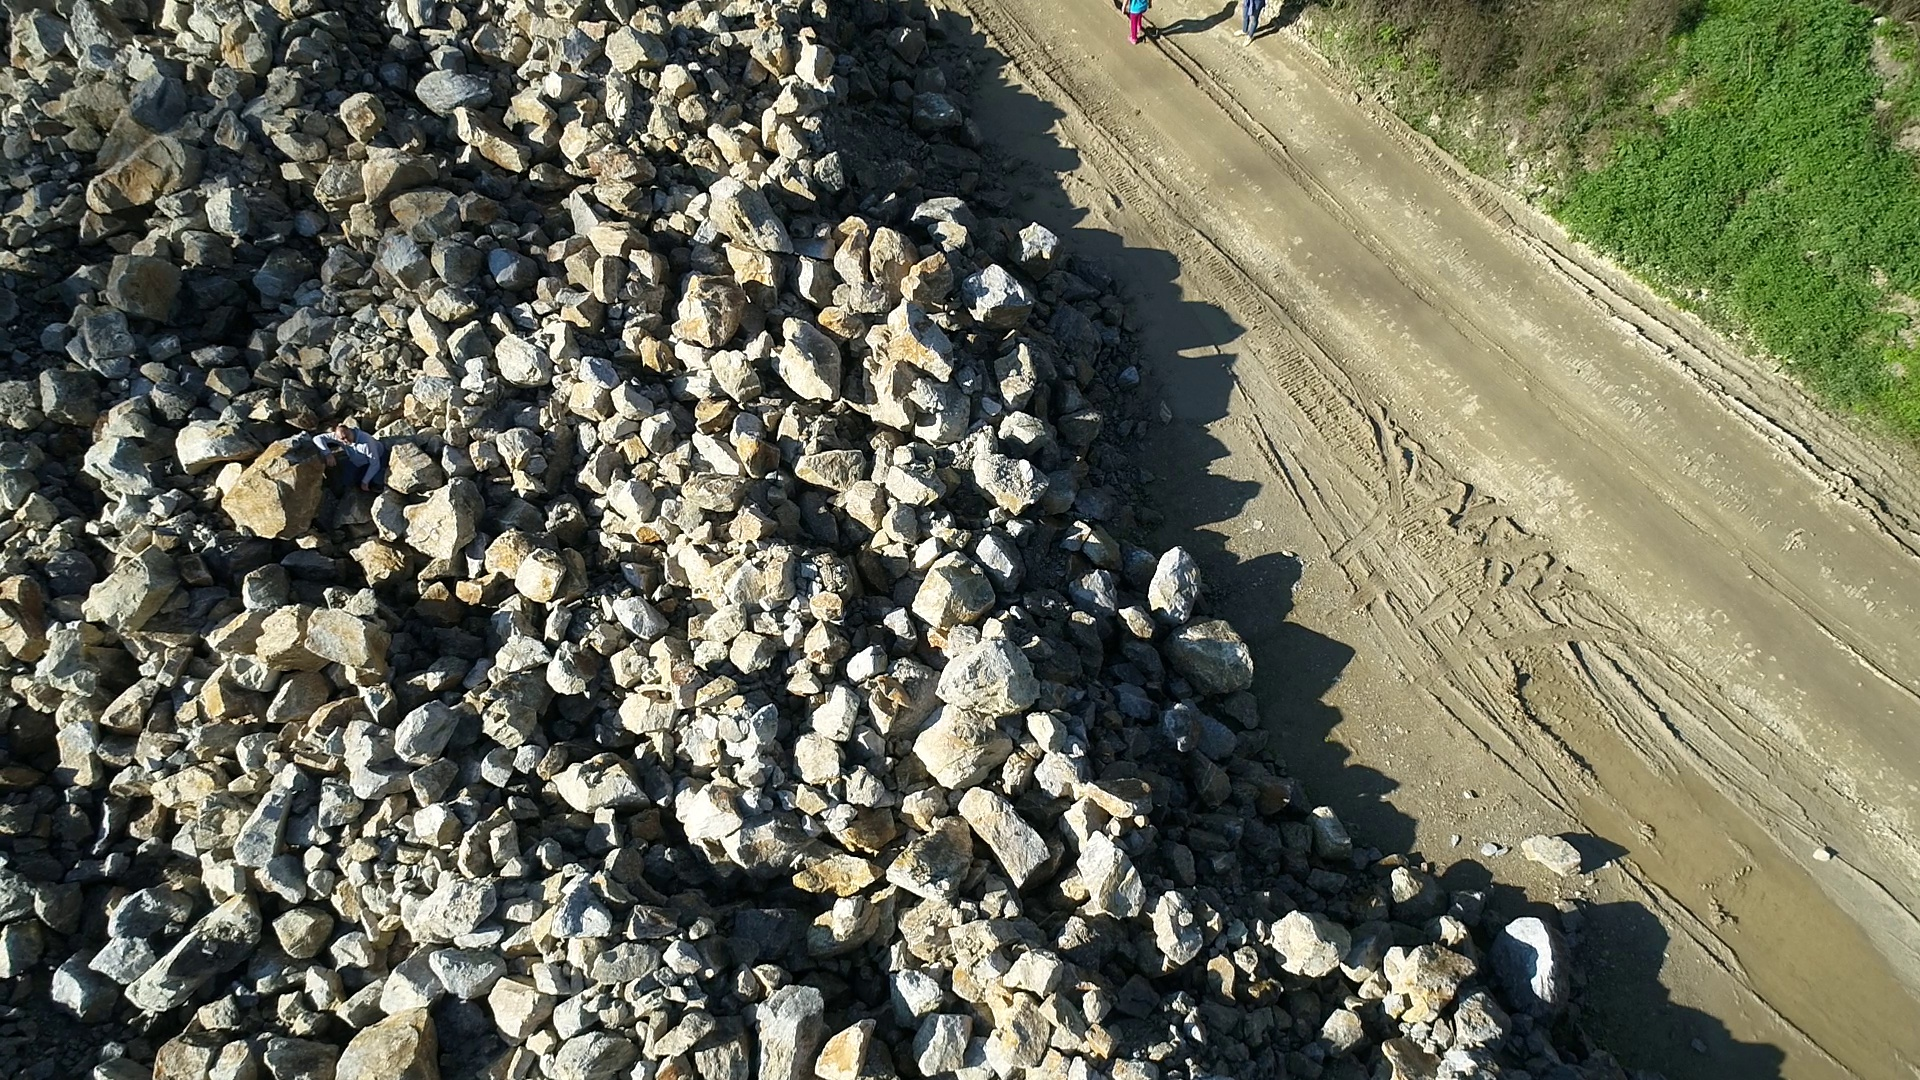person: (313, 423, 387, 492), (1233, 1, 1266, 48), (1121, 1, 1152, 45)
